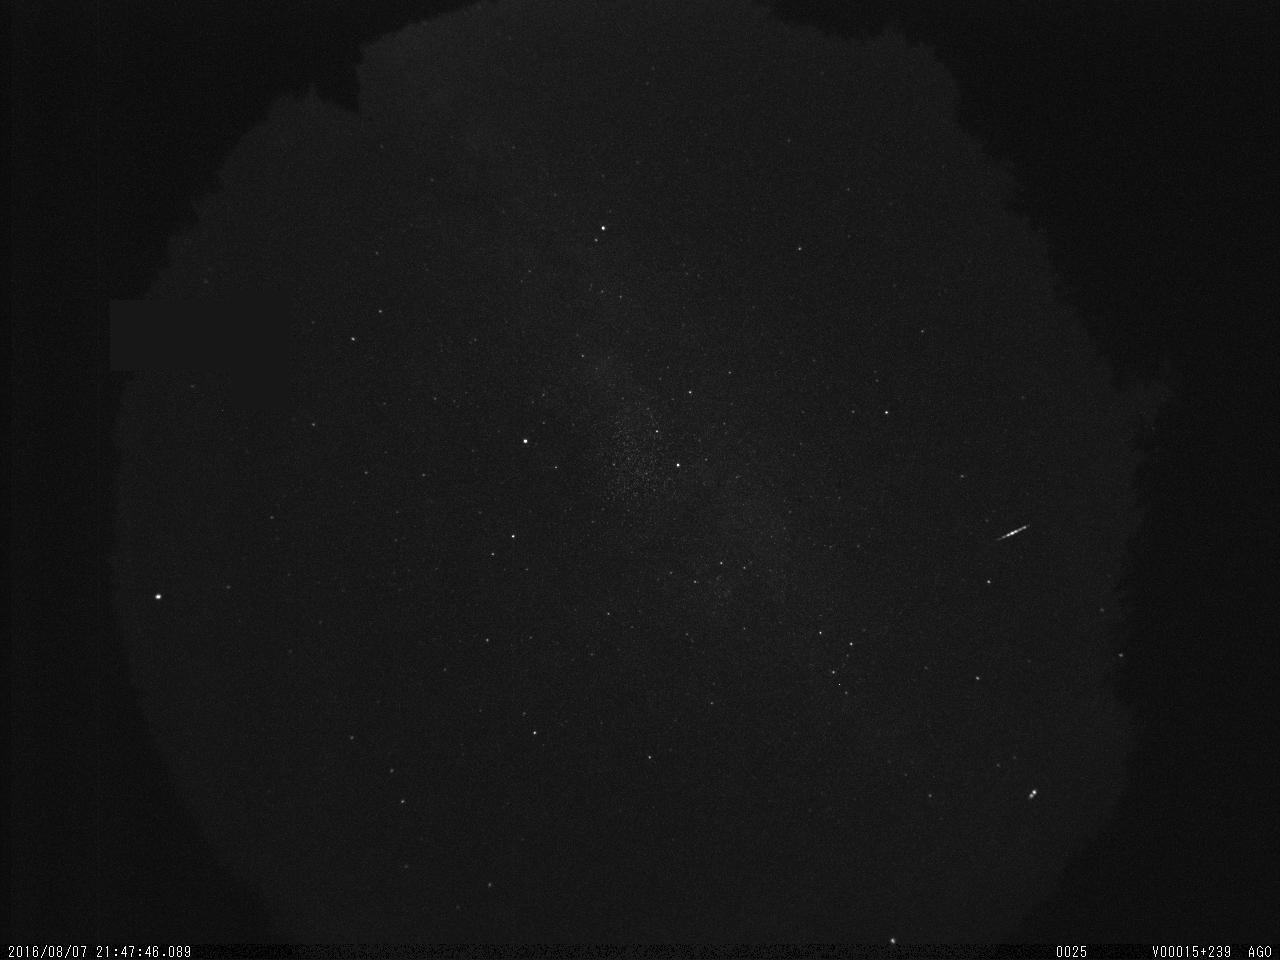meteor: (990, 517, 1036, 548)
